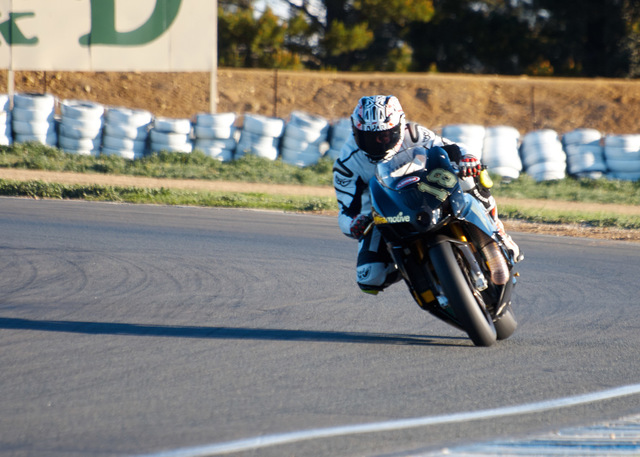helmet: (349, 97, 412, 155)
